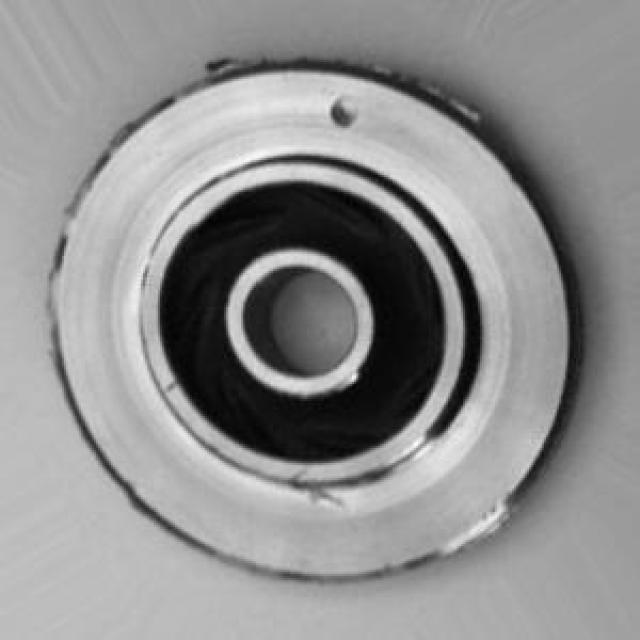Defect: (325, 90, 368, 138)
